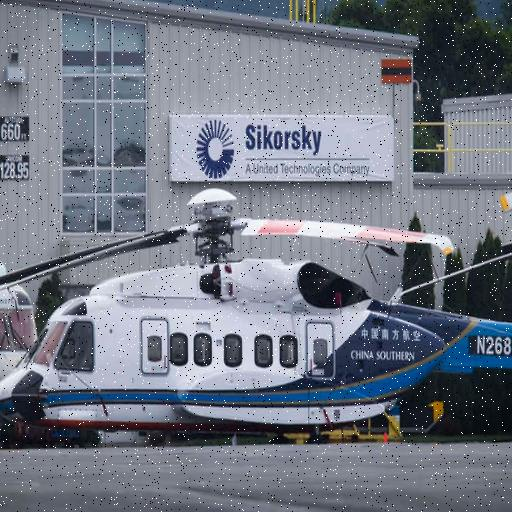helicopter: (1, 84, 512, 446)
